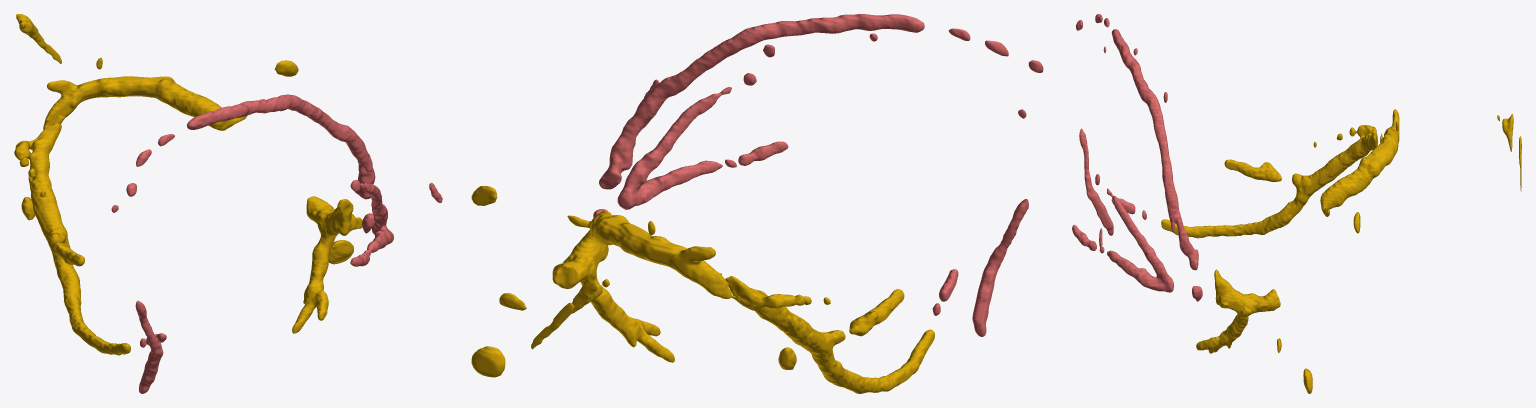
The model's file is case1.glb.
3 renders of one model, left to right at view 1: azimuth 30°, elevation 25°; view 2: azimuth 150°, elevation 25°; view 3: azimuth 270°, elevation 25°, orthographic. The views are drawn at different scales.
Visible parts, largest first — view 1: world; view 2: world; view 3: world.
Boxes of the visible parts, left/top/right/bottom form: world: left=14, top=14, right=442, bottom=393; world: left=471, top=14, right=1043, bottom=393; world: left=1072, top=14, right=1521, bottom=393.
Bounding box in the file's own units: 95.03 × 74.28 × 118.
